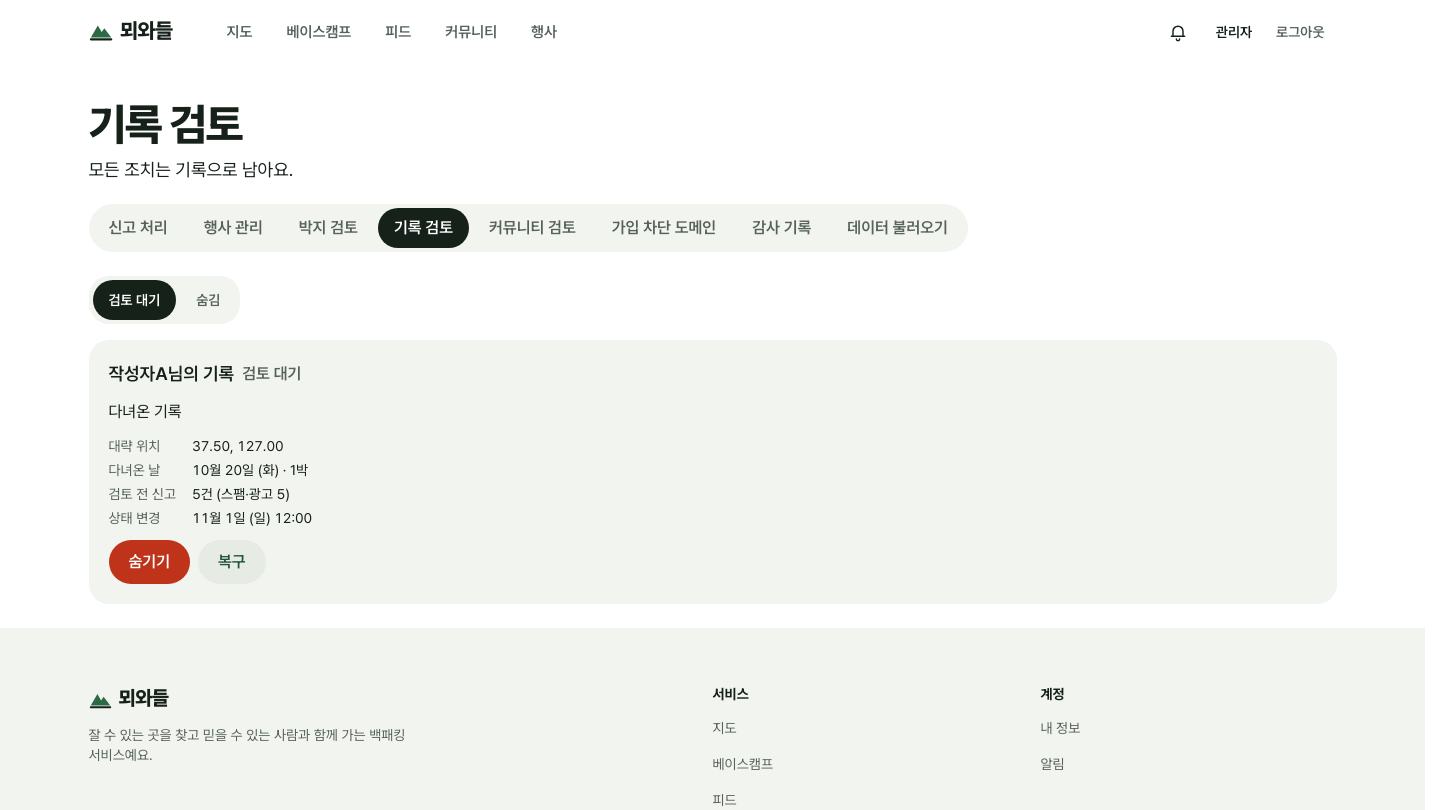
Test case: 관리자 기록 검토 › 숨김은 성공했는데 목록을 다시 불러오지 못해도 대화상자가 닫히고 그 카드가 빠진다
This screenshot has width=1440, height=810.
Click the button "숨기기": (149,562) [108,540,190,584]
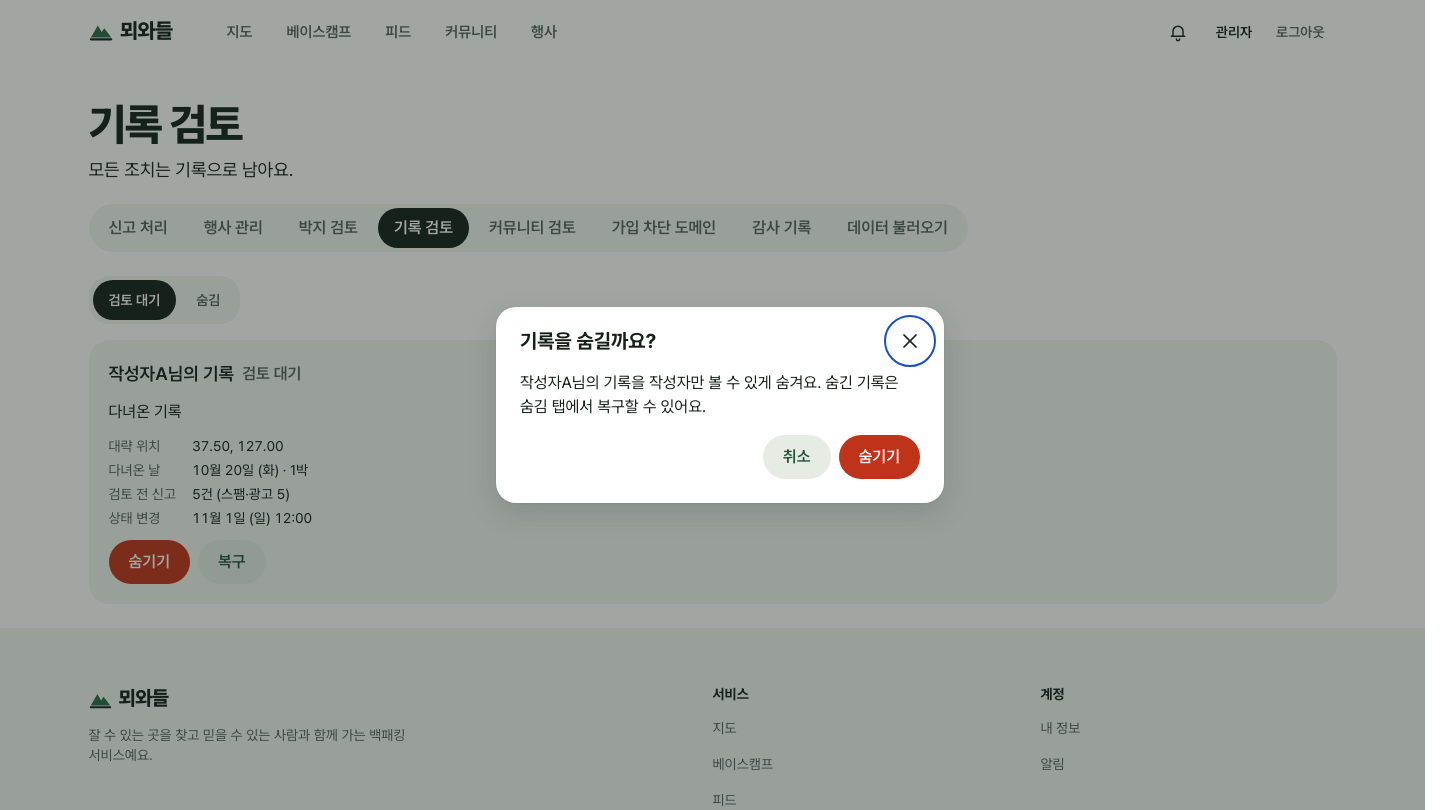
Click the button "숨기기": (879,457) [838,435,920,479]
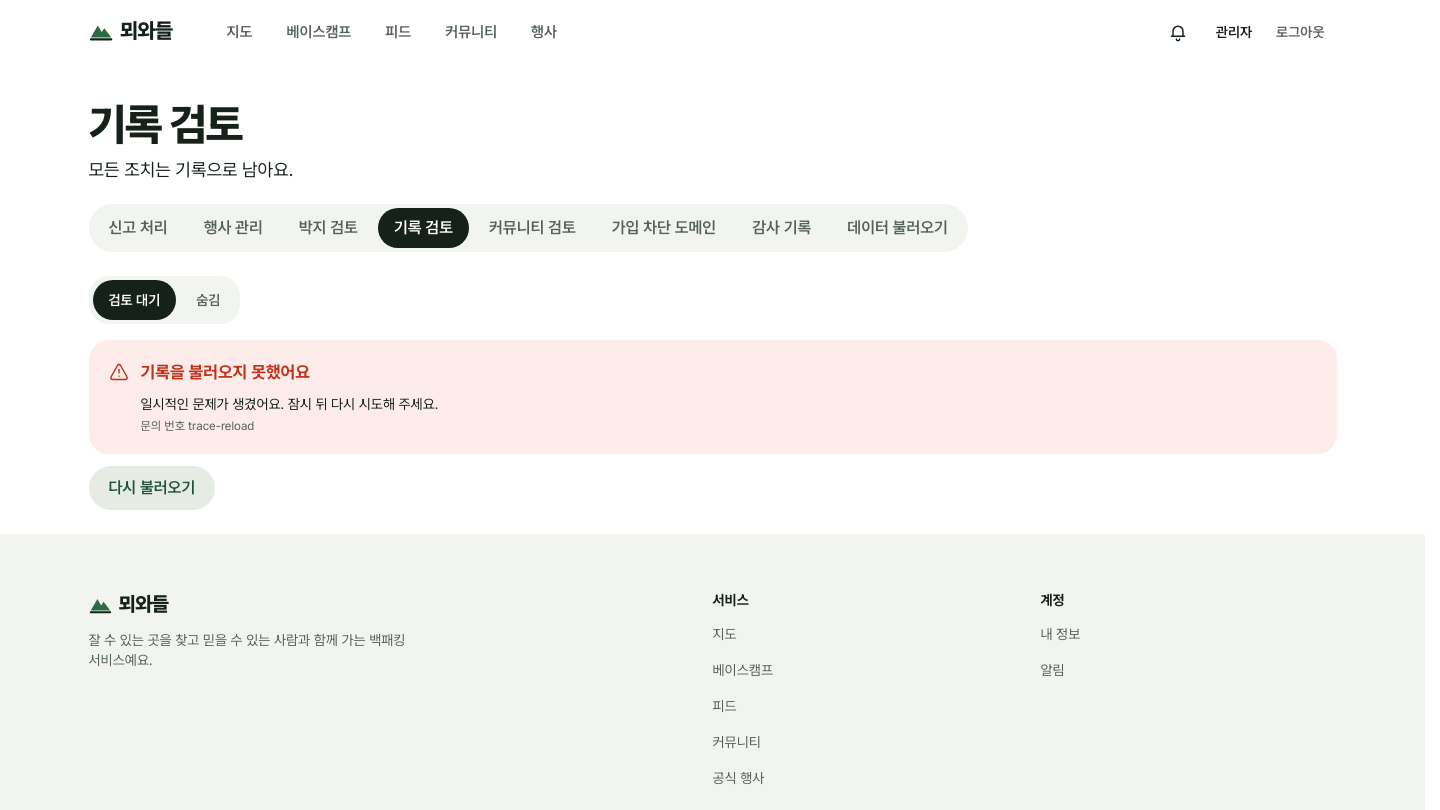
Now the dialog is gone
Now the text "작성자A님의 기록" is gone
Now the message "기록을 불러오지 못했어요 일시적인 문제가 생겼어요. 잠시 뒤 다시 시도해 주세요. 문의 번호 trace-reload 다시 불러오기" is shown, box [88,340,1336,510]
